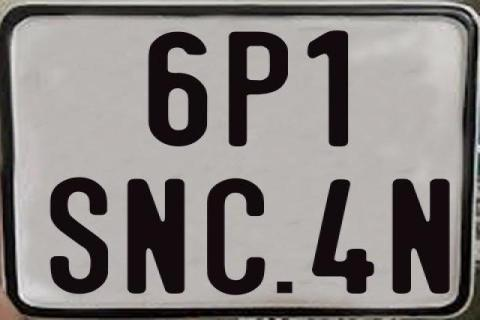0: (310, 177, 372, 297), (147, 31, 207, 148), (307, 30, 353, 146)
C: (206, 178, 268, 300)
N: (390, 179, 454, 295), (128, 176, 188, 291)
P: (226, 31, 285, 149)
S: (49, 176, 107, 294)
